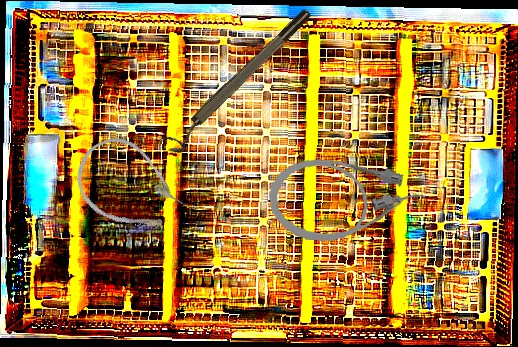Cannula: (61, 124, 198, 252), (265, 155, 429, 250)
Fixation Ring: (159, 6, 320, 158)
